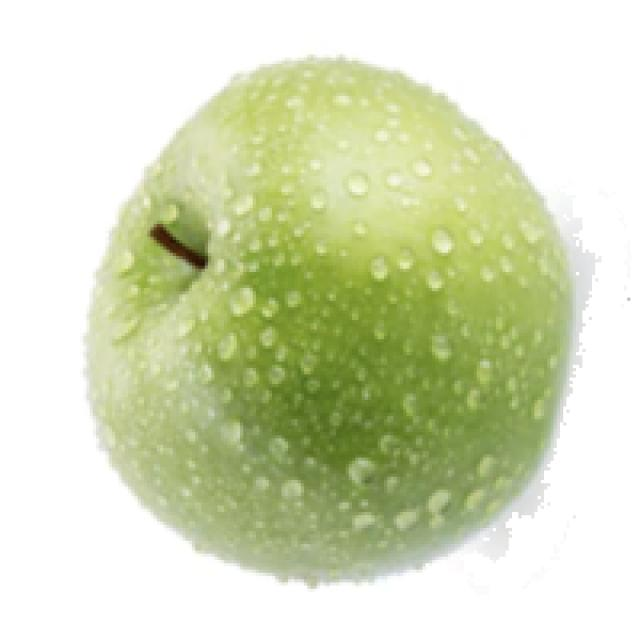apple: (77, 48, 602, 592)
